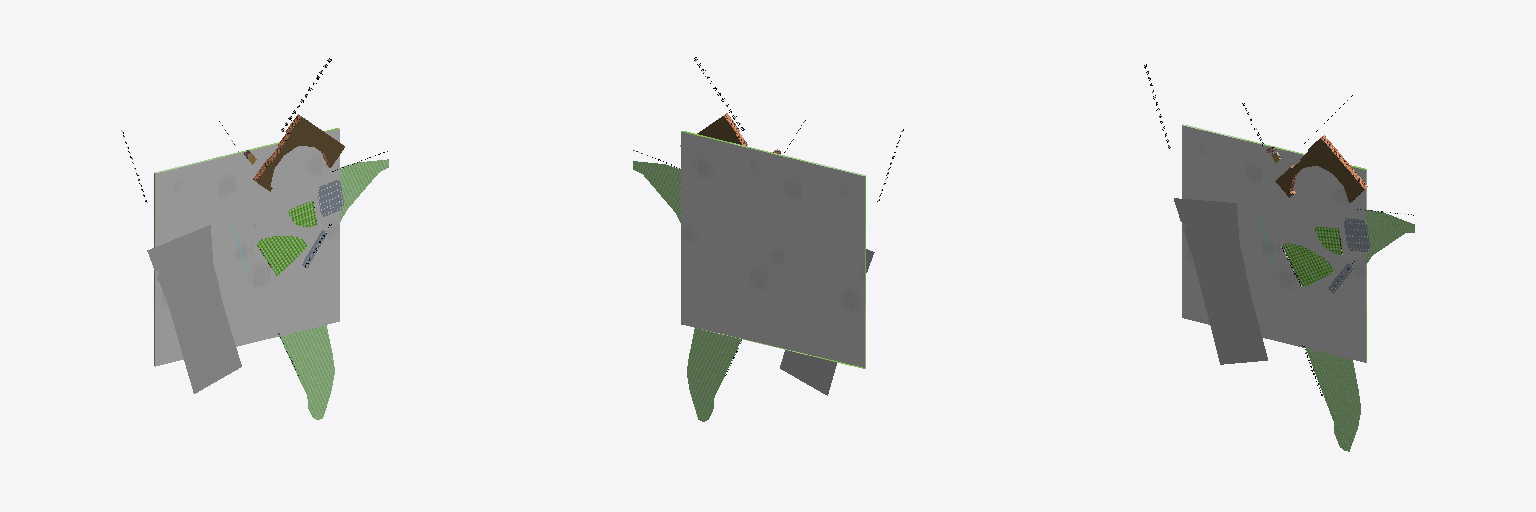
3 renders of one model, left to right at view 1: azimuth 30°, elevation 25°; view 2: azimuth 150°, elevation 25°; view 3: azimuth 330°, elevation 25°, orthographic.
Visible parts, largest first — view 1: POLYGON, BUILDING; view 2: POLYGON, BUILDING; view 3: POLYGON, BUILDING.
Boxes of the visible parts, box(x1,y1,x2,y2) form: POLYGON: box(147, 128, 388, 419); BUILDING: box(244, 114, 344, 191); POLYGON: box(633, 131, 874, 421); BUILDING: box(680, 113, 780, 153); POLYGON: box(1174, 124, 1414, 451); BUILDING: box(1266, 135, 1367, 202).
Bounding box in the file's own units: 893 × 1144 × 29.
Materials: 4 (4 with a texture image).